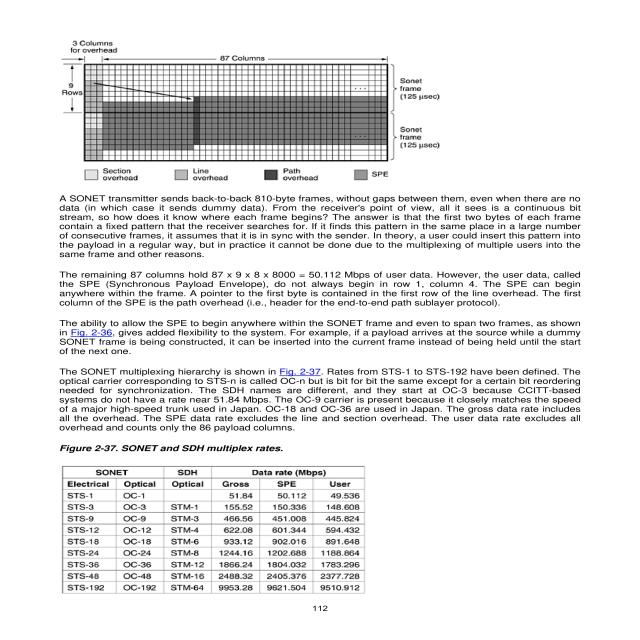diagram: (32, 435, 494, 600), (44, 32, 476, 188)
